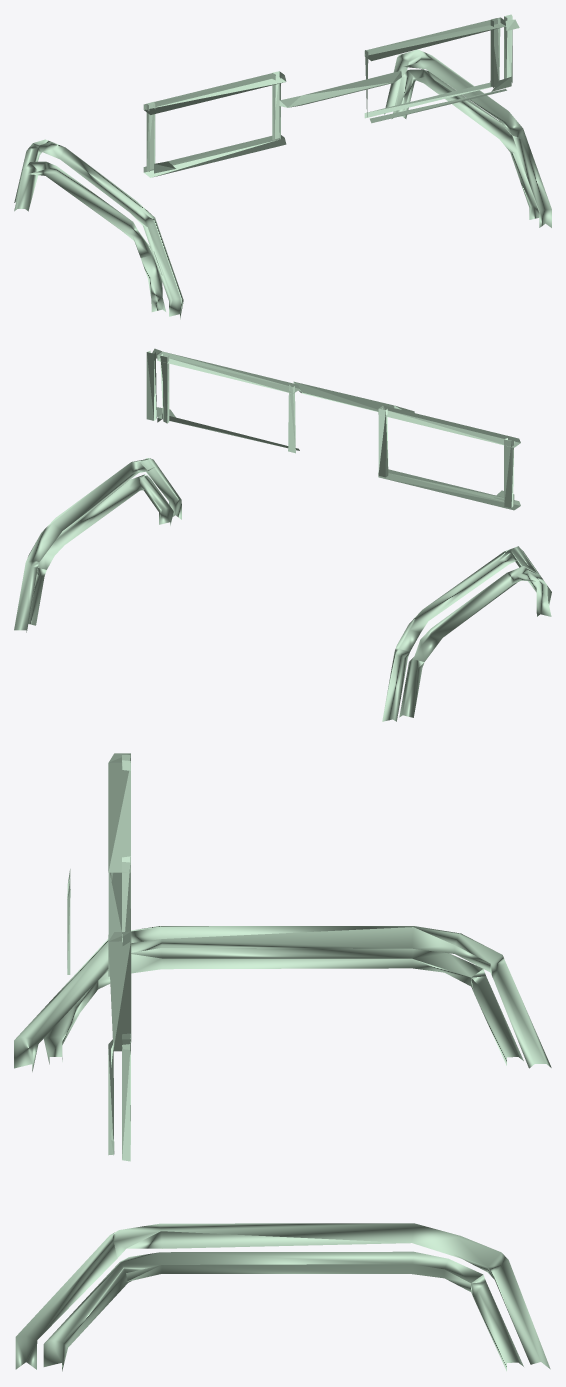
Rendered from backdrop_top_c_lod1.glb.
3 renders of one model, top to bottom at view 1: azimuth 30°, elevation 25°; view 2: azimuth 150°, elevation 25°; view 3: azimuth 270°, elevation 25°, orthographic. The views are drawn at different scales.
Bounding box in the file's own units: 59.05 × 27.5 × 42.52.
